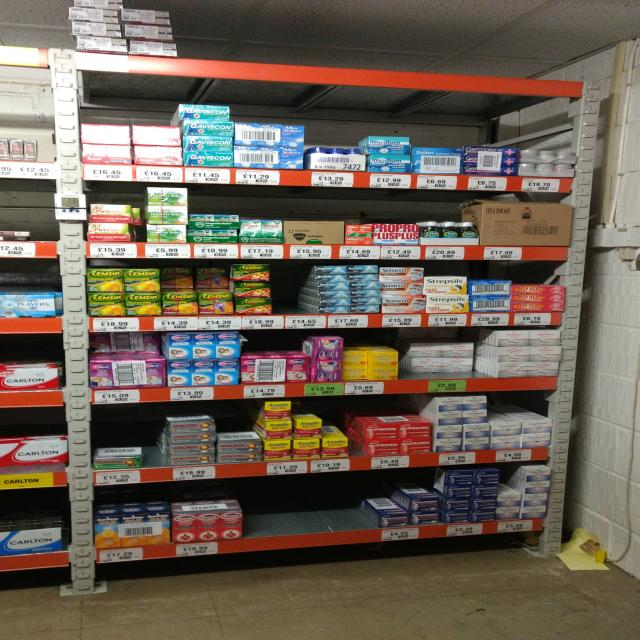void: (185, 4, 581, 78), (256, 484, 370, 530), (4, 3, 68, 50), (278, 264, 309, 313)
